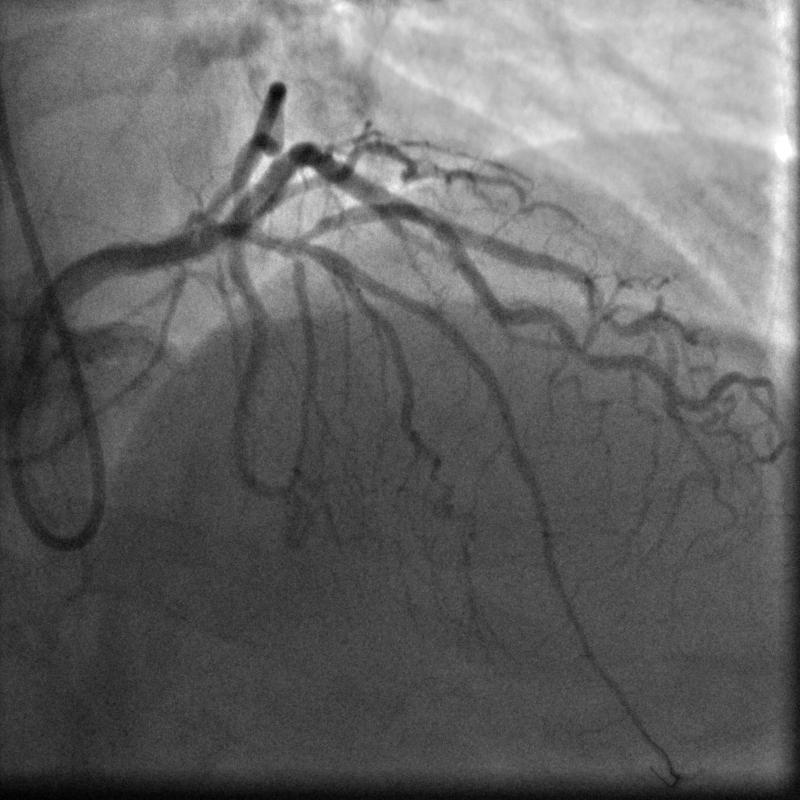Stenosis: (404, 199, 445, 234)
